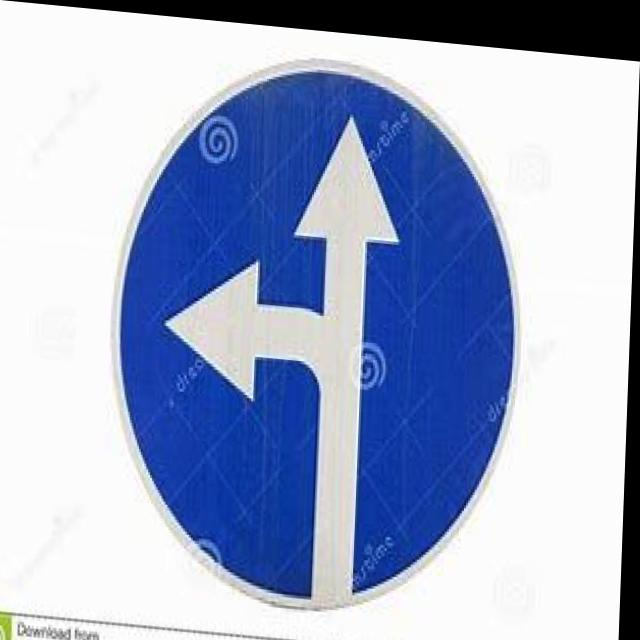COMPULSARY_AHEAD_OR_TURN_LEFT: (105, 37, 527, 615)
